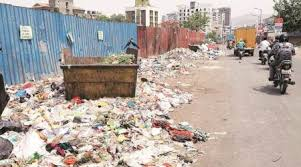garbage: (11, 99, 173, 167), (11, 82, 63, 167), (139, 63, 179, 106), (154, 56, 187, 68)
